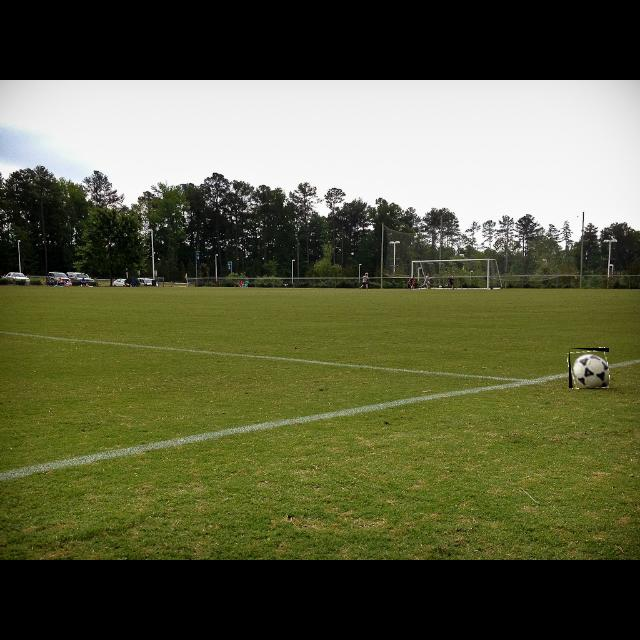Football: (569, 348, 609, 388)
